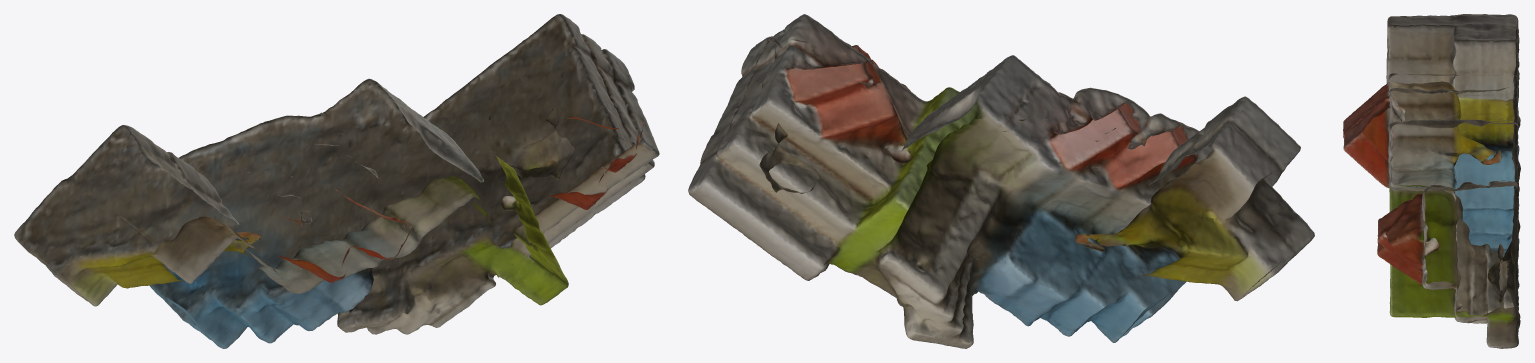
File: blocks.glb
3 renders of one model, left to right at view 1: azimuth 30°, elevation 25°; view 2: azimuth 150°, elevation 25°; view 3: azimuth 270°, elevation 25°, orthographic. The views are drawn at different scales.
Size of the model in its own units: 1 by 0.4131 by 0.3124.
